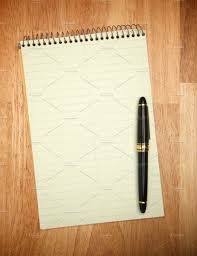pen: (137, 95, 148, 218)
